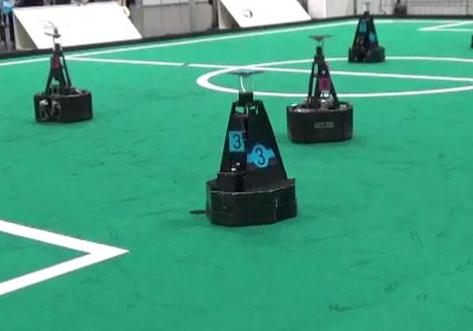robot: (202, 65, 301, 227), (284, 30, 354, 146), (32, 29, 94, 124), (347, 1, 387, 65)
